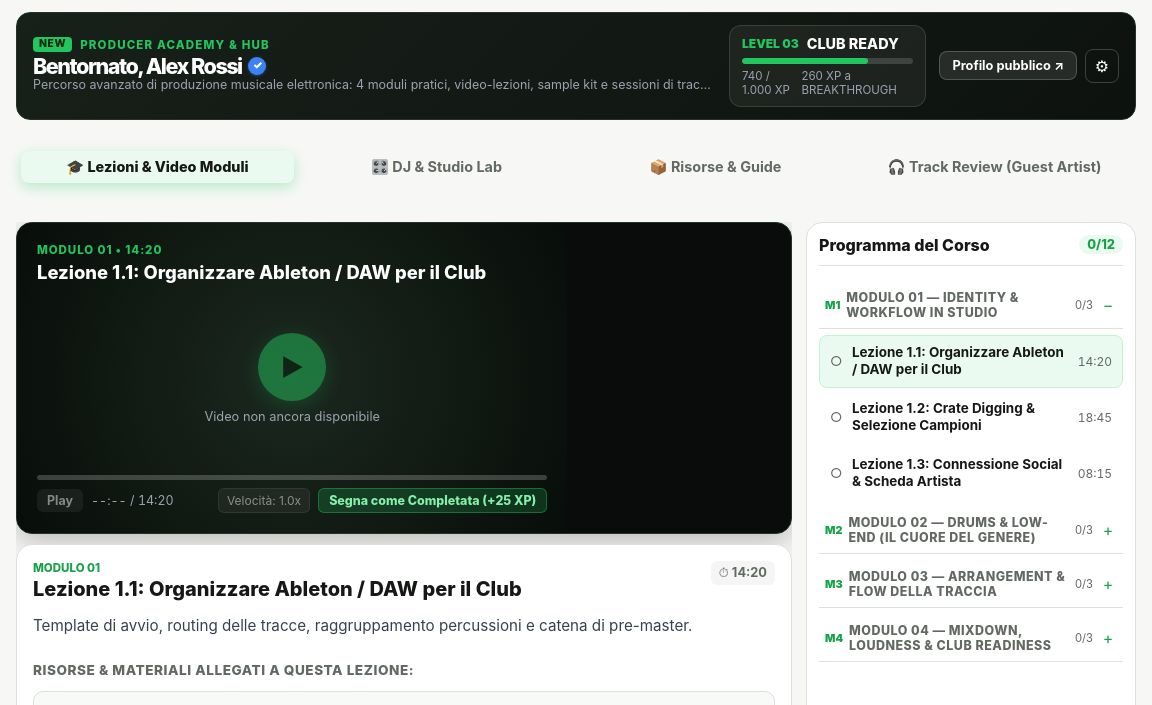
producer features › mostra un solo capitolo Academy alla volta
What coordinates should you click on to do the following:
click the button "M2 MODULO 02 — DRUMS & LOW-END (IL CUORE DEL GENERE) 0/3 +"
I would click on:
 (971, 530)
Its box is [819,507,1123,554].
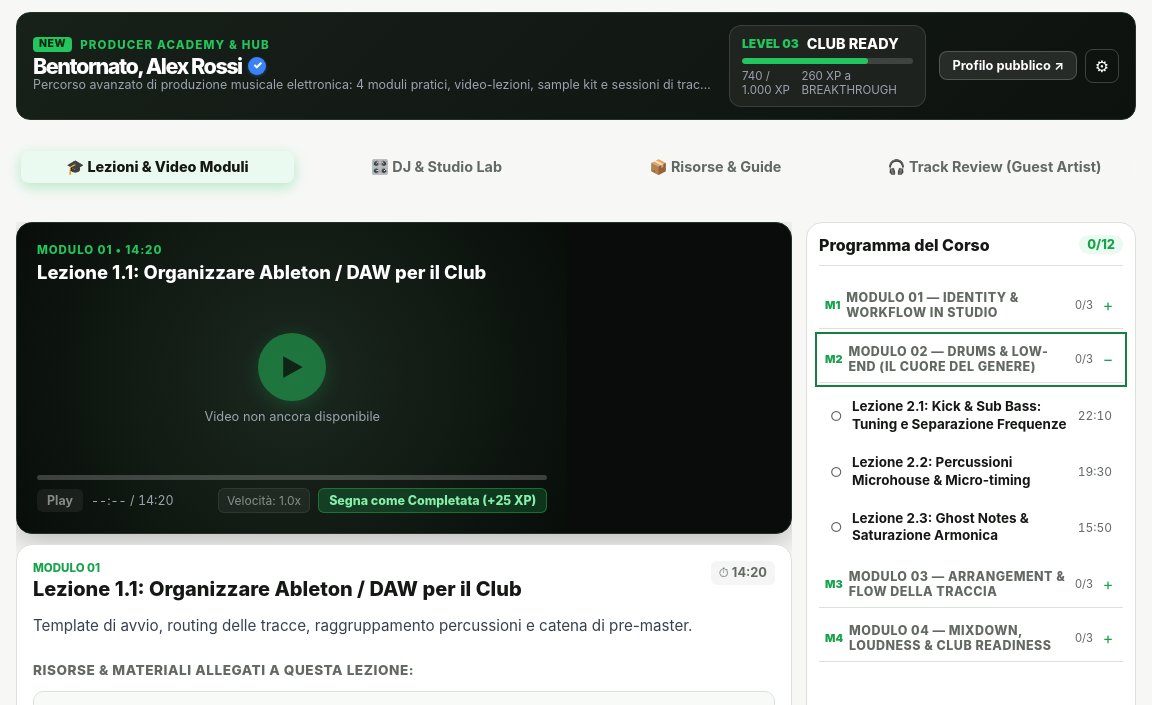
Result: the button "M2 MODULO 02 — DRUMS & LOW-END (IL CUORE DEL GENERE) 0/3 −" is expanded at [819,336,1123,383]
Result: the button "Lezione 2.1" is shown at [819,389,1123,442]
